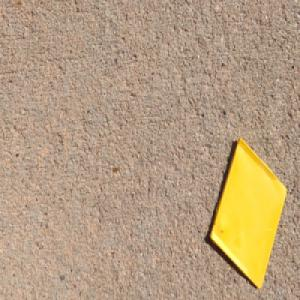PlasticPart: (208, 136, 287, 291)
